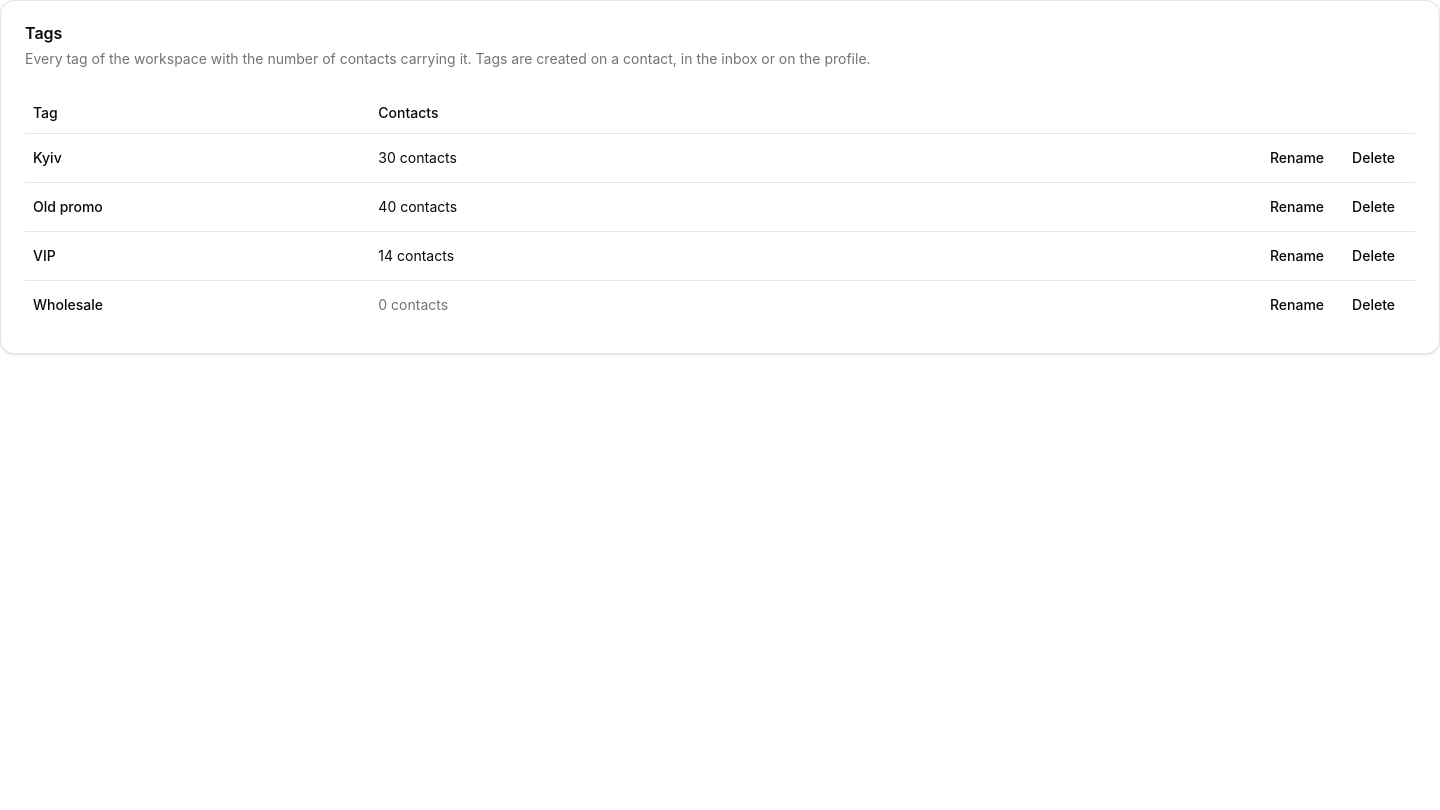
SCR-21 owner actions (AC-09, AC-11, AC-14) › the success notice stays until the next action
Click the button "Delete" in the row of "Old promo" at coordinates (1374, 206), box x1=1340 y1=190 x2=1407 y2=222
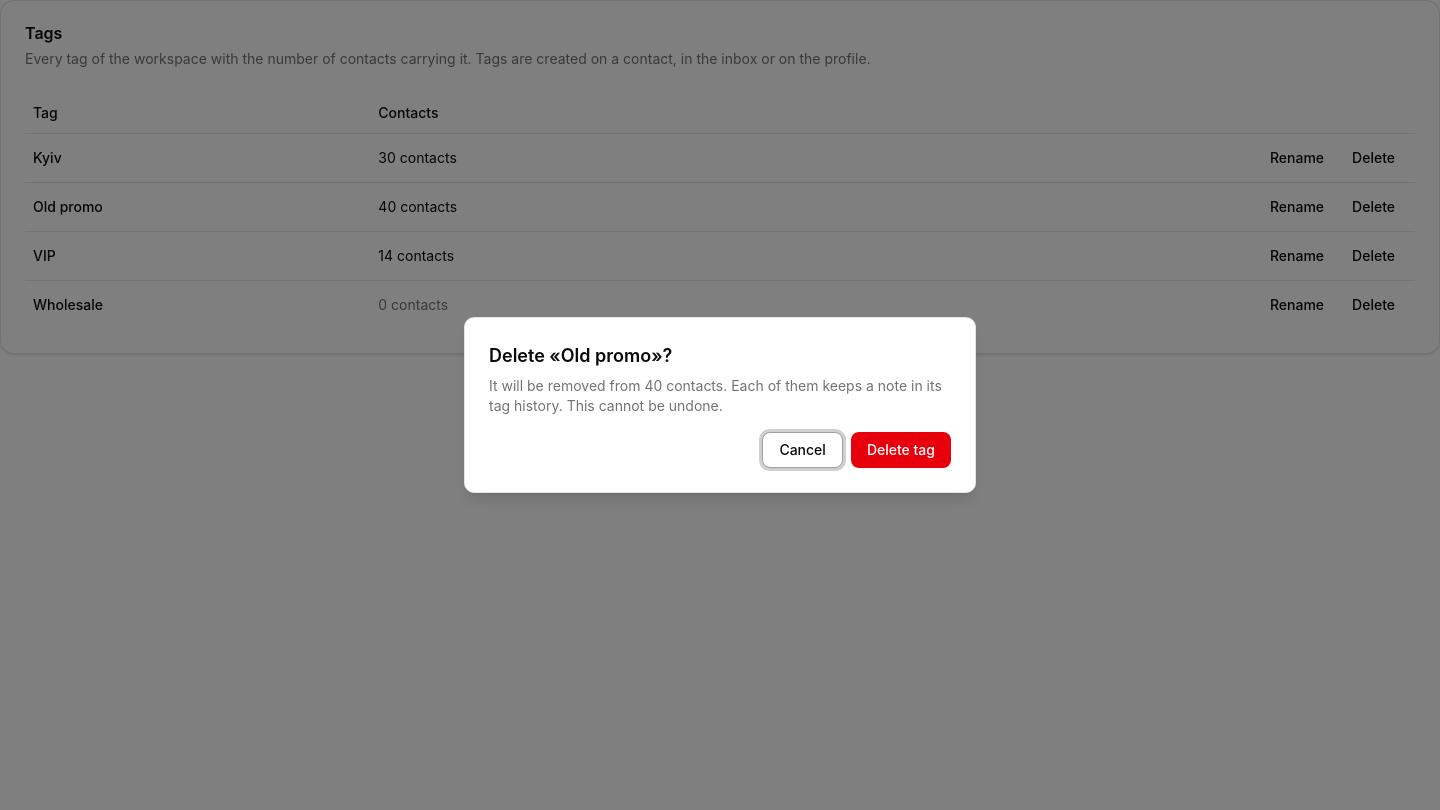
Click the button "Delete tag" at coordinates (901, 450), box x1=851 y1=432 x2=951 y2=468
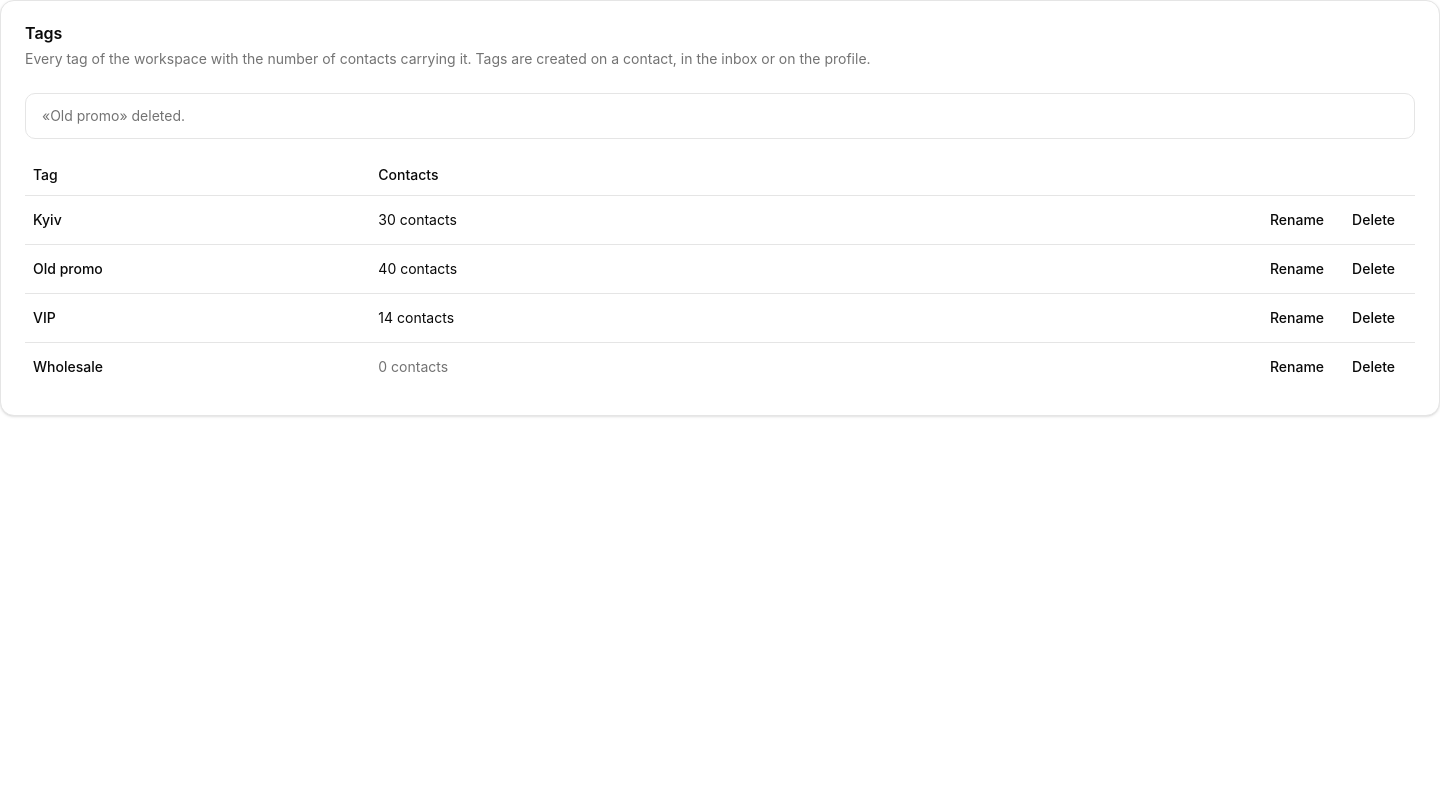
expect the text "«Old promo» deleted." is shown: met, box x1=42 y1=107 x2=185 y2=124
Click the button "Delete" in the row of "VIP" at coordinates (1374, 318), box x1=1340 y1=302 x2=1407 y2=334
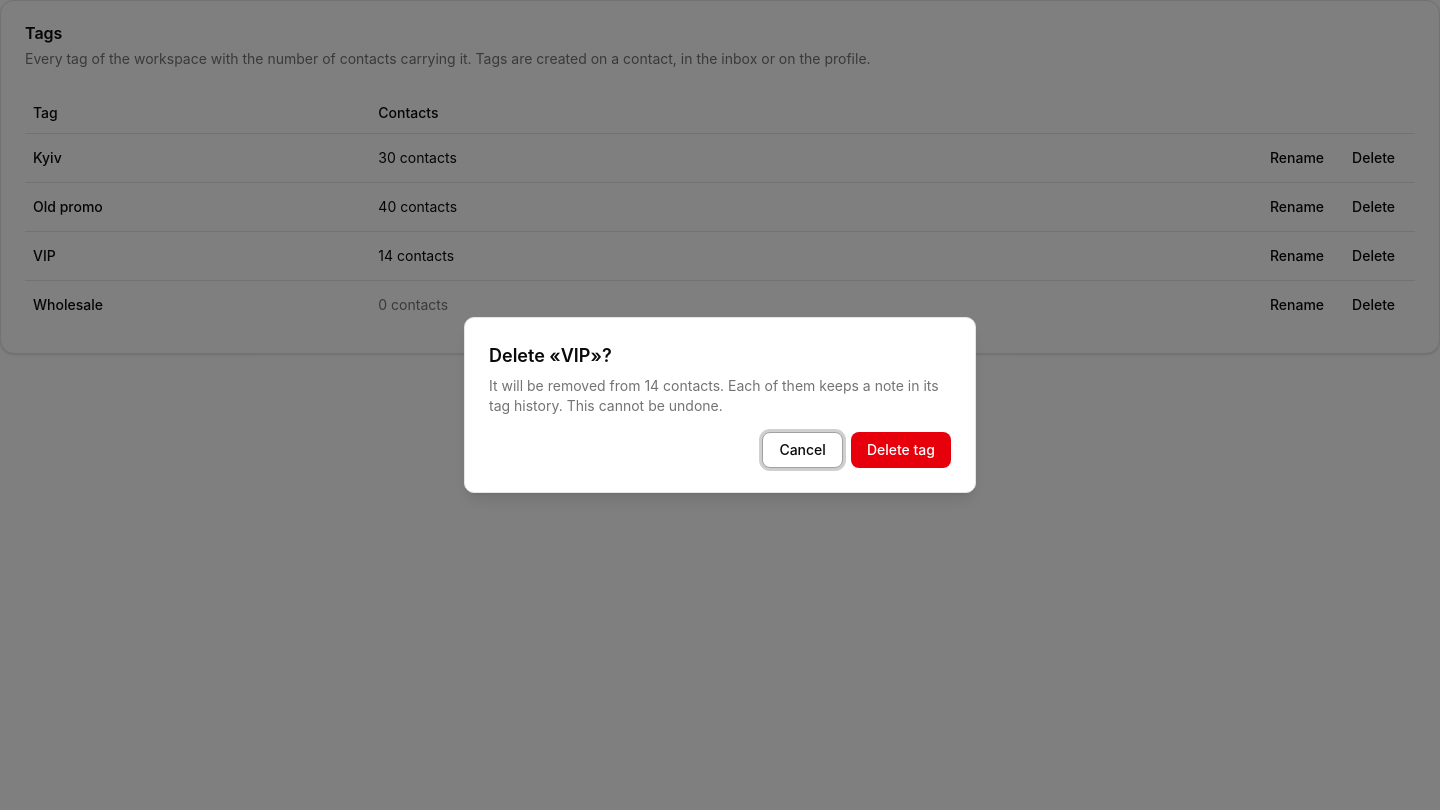
expect the text "«Old promo» deleted." is gone: met
